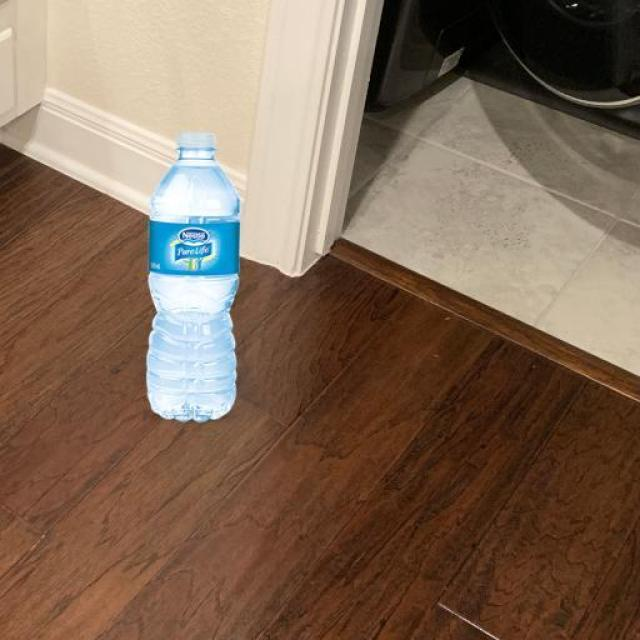bottle: (137, 127, 250, 436)
